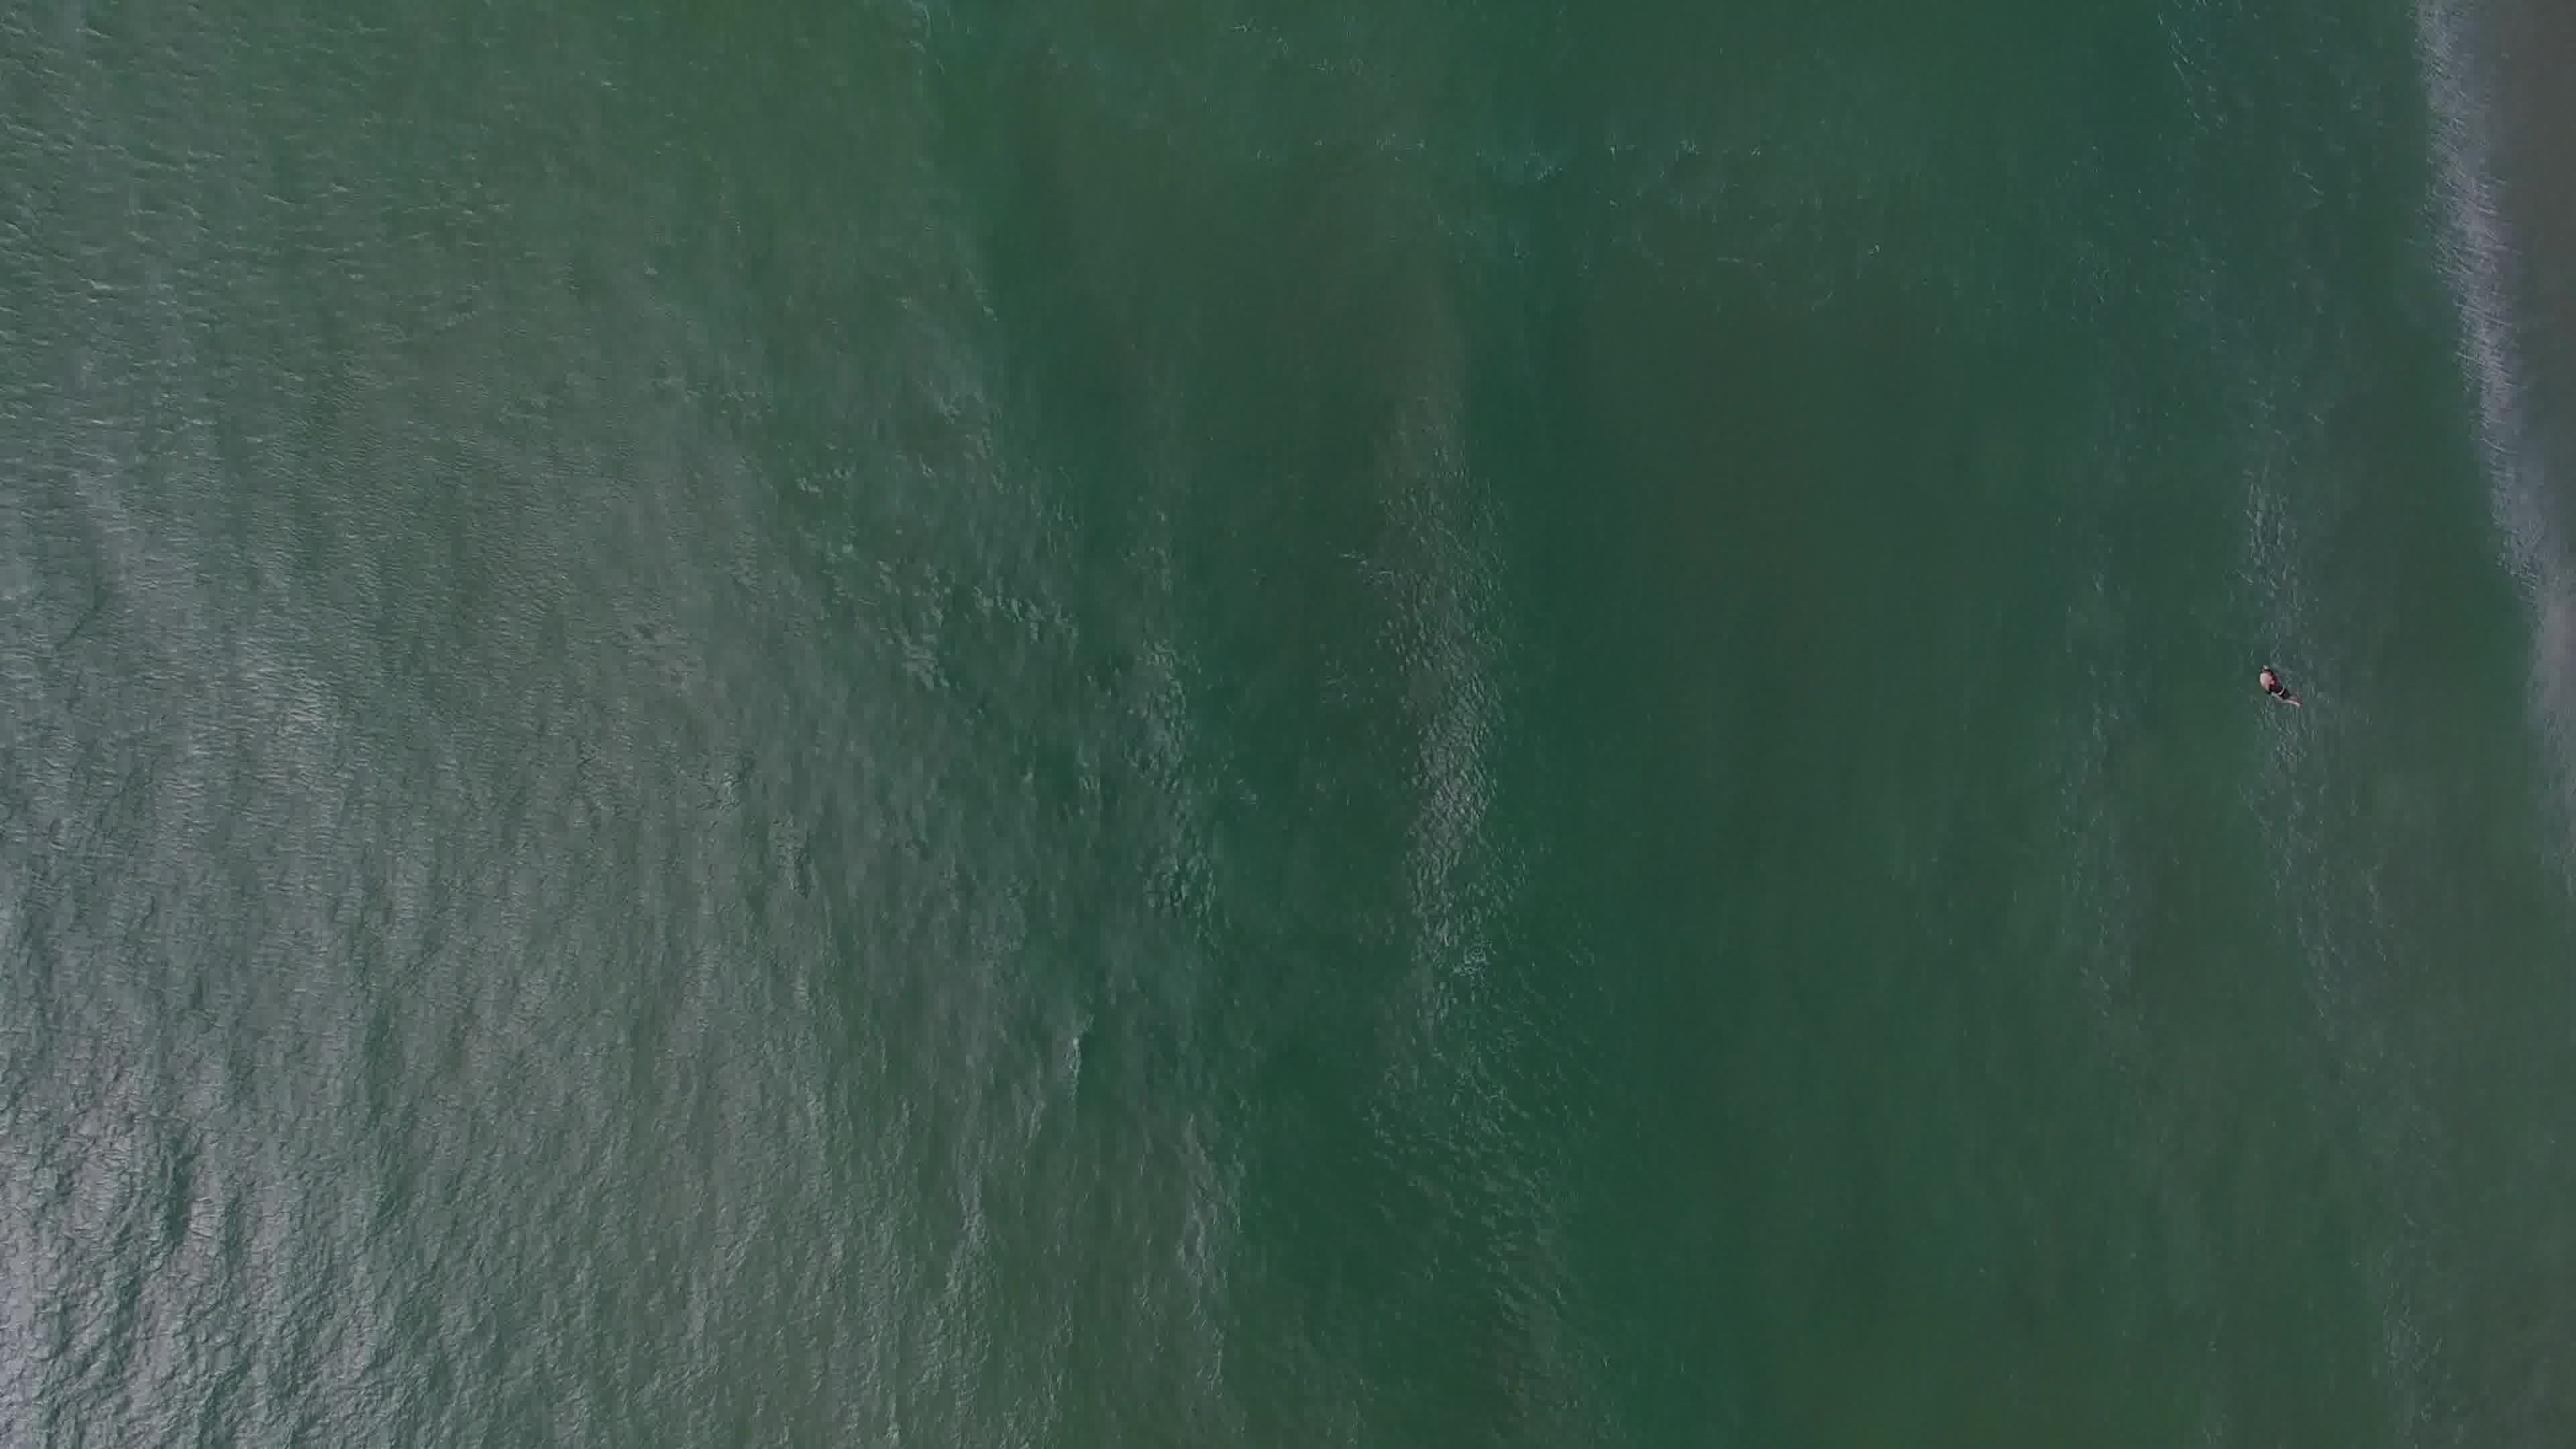surfer: (2250, 663, 2314, 718)
